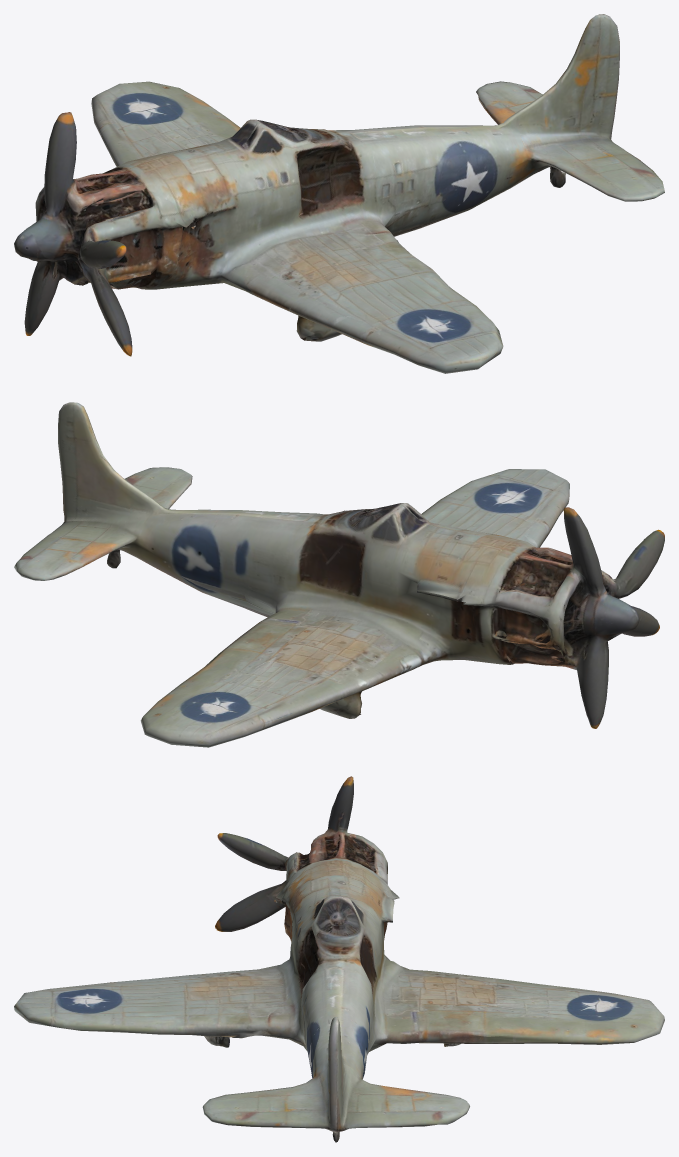
Rendered from World War Plane v2.glb.
3 views of the same model, one above another, from view 1: azimuth 30°, elevation 25°; view 2: azimuth 150°, elevation 25°; view 3: azimuth 270°, elevation 25° (orthographic). The views are drawn at different scales.
Parts seen in each view (by area): view 1: Mesh0; view 2: Mesh0; view 3: Mesh0.
Boxes of the visible parts, x1,y1,x2,y2 form: Mesh0: (14, 14, 664, 373); Mesh0: (14, 402, 664, 747); Mesh0: (14, 776, 664, 1142).
Size of the model in its own units: 1.84 by 0.6371 by 1.99.
Materials: 1 (1 with a texture image).
